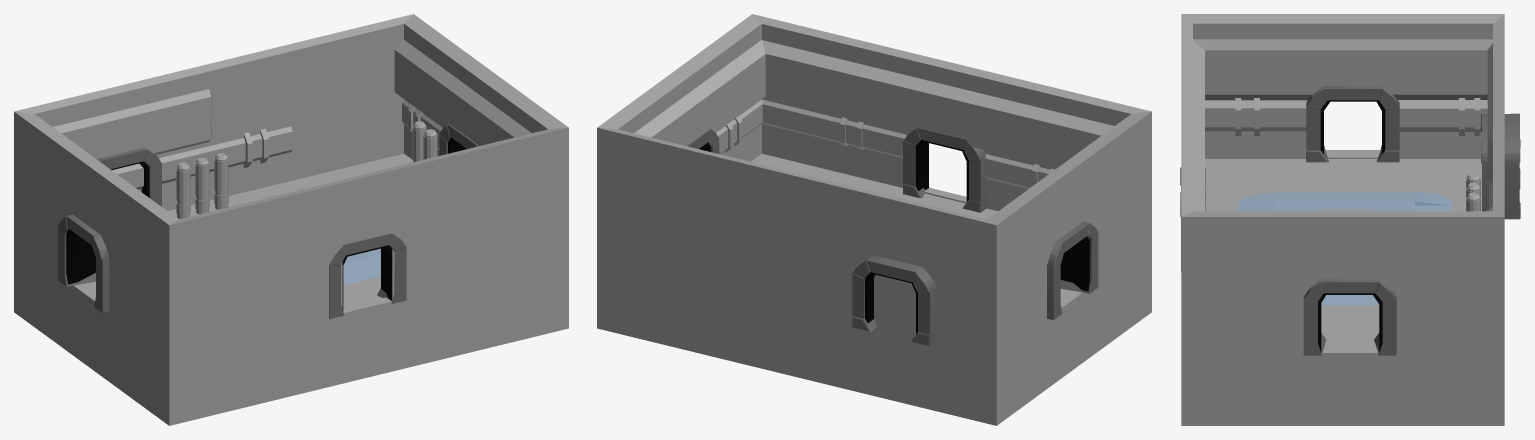
File: HUB - Walls and Floor - NO tile.fbx
The picture shows the model from 3 angles, left to right: view 1: azimuth 30°, elevation 25°; view 2: azimuth 150°, elevation 25°; view 3: azimuth 270°, elevation 25°; orthographic projection. The views are drawn at different scales.
Parts seen in each view (by area): view 1: pCube484, pCylinder169, pCylinder223, pCube866, pCylinder170, pCube859, pCube868, pCube209, pCylinder212, pCylinder214, pCylinder213, pCube855; view 2: pCube484, pCylinder181, pCylinder223, pCube868, pCube859, pCube866, pCylinder177, pCylinder176, pCylinder172; view 3: pCube484, pCylinder178, pCube209, pCube855, pCube866, pCylinder173, pCube868, pCylinder175, pCylinder181, pCylinder169.
Part boxes in pixels (<box>): pCube484: <box>14,14,568,425</box>; pCylinder169: <box>53,89,212,159</box>; pCylinder223: <box>394,40,531,146</box>; pCube866: <box>57,214,109,312</box>; pCylinder170: <box>112,126,292,189</box>; pCube859: <box>329,233,406,319</box>; pCube868: <box>97,147,161,206</box>; pCube209: <box>343,248,380,285</box>; pCylinder212: <box>195,157,209,214</box>; pCylinder214: <box>214,153,228,209</box>; pCylinder213: <box>176,162,190,218</box>; pCube855: <box>439,123,477,155</box>; pCube484: <box>597,14,1151,425</box>; pCylinder181: <box>762,40,1114,167</box>; pCylinder223: <box>634,40,765,145</box>; pCube868: <box>852,255,936,346</box>; pCube859: <box>903,127,986,212</box>; pCube866: <box>1047,221,1098,320</box>; pCylinder177: <box>761,99,906,158</box>; pCylinder176: <box>985,154,1050,188</box>; pCylinder172: <box>716,100,762,154</box>; pCube484: <box>1181,14,1504,425</box>; pCylinder178: <box>1193,39,1492,100</box>; pCube209: <box>1237,192,1452,305</box>; pCube855: <box>1303,279,1396,355</box>; pCube866: <box>1306,86,1399,162</box>; pCylinder173: <box>1205,100,1307,131</box>; pCube868: <box>1481,113,1520,219</box>; pCylinder175: <box>1398,100,1487,131</box>; pCylinder181: <box>1193,41,1204,211</box>; pCylinder169: <box>1487,43,1492,185</box>.
Size of the model in its own units: 55.59 by 25.79 by 38.08.
